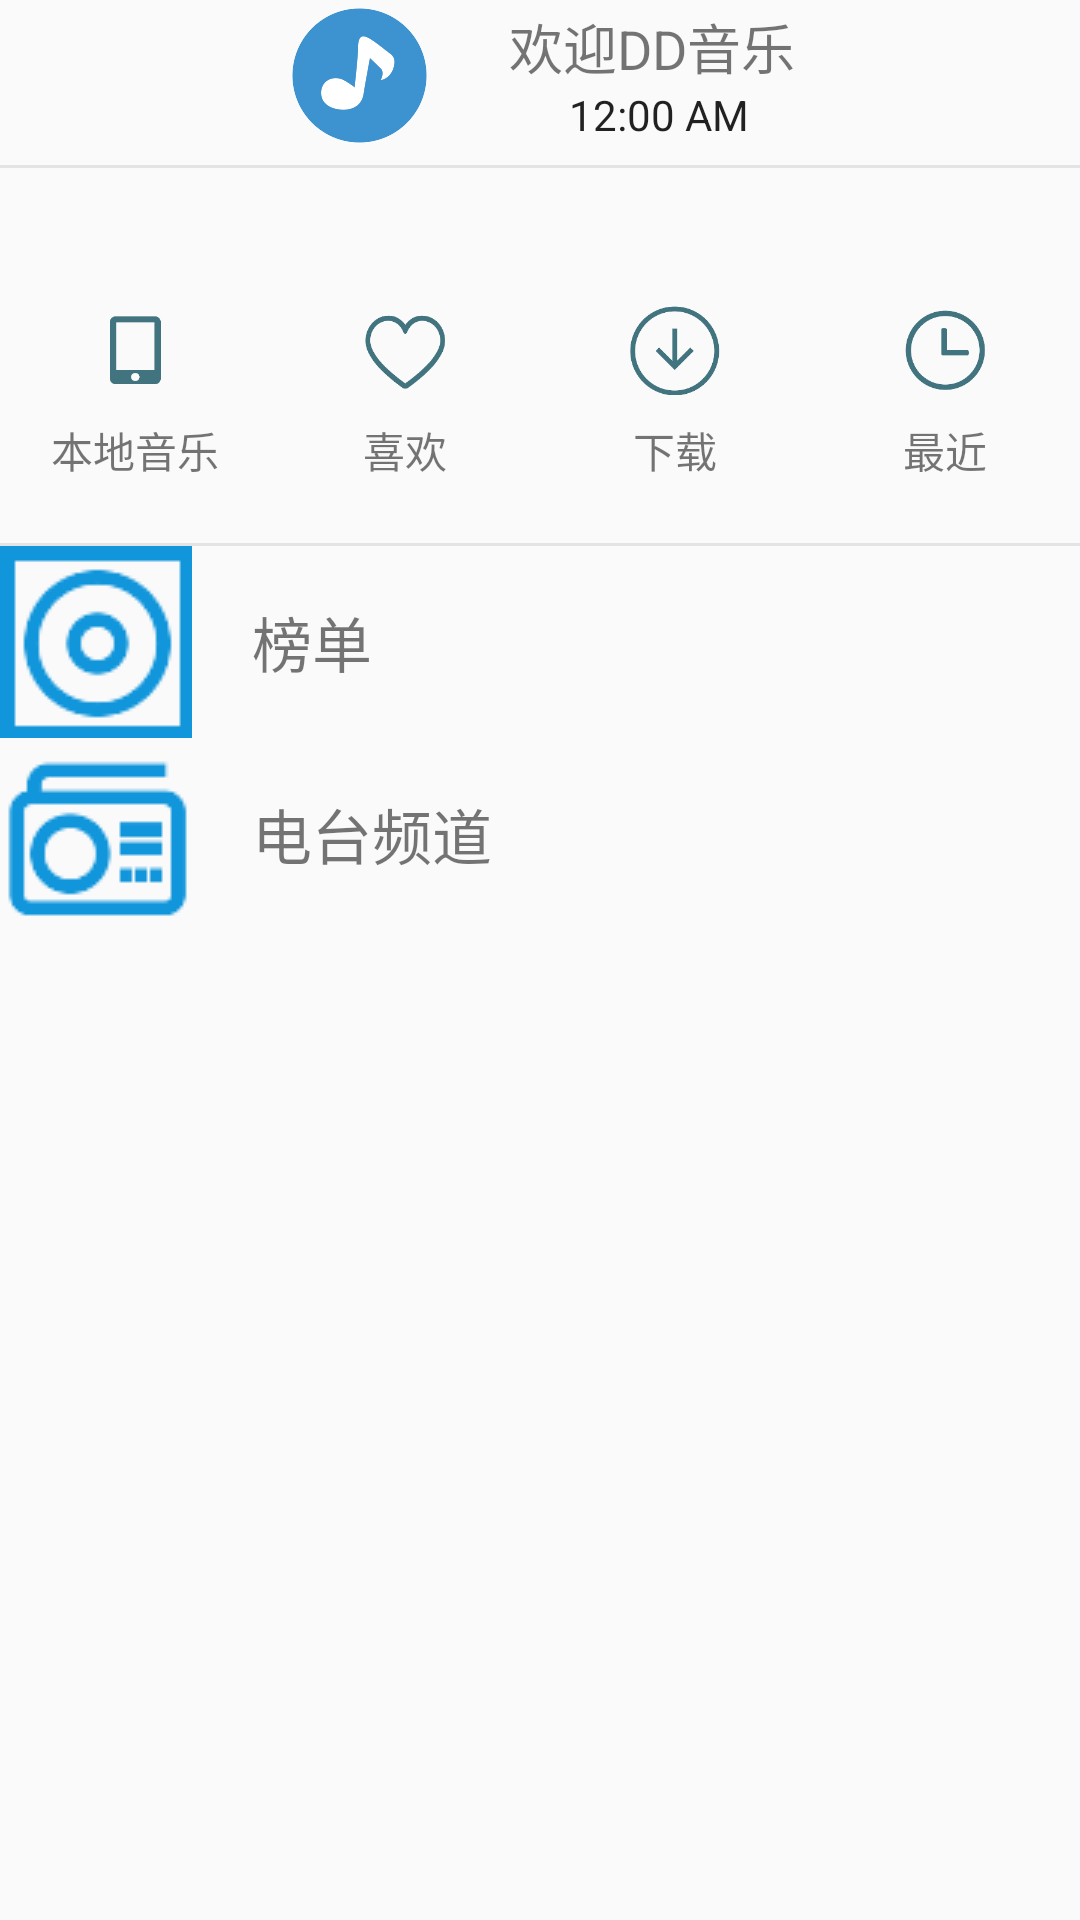

Point at icon controls on the screen. Image size 1080*1920, points as [x,y].
music list: [96,642]
radio: [97,838]
